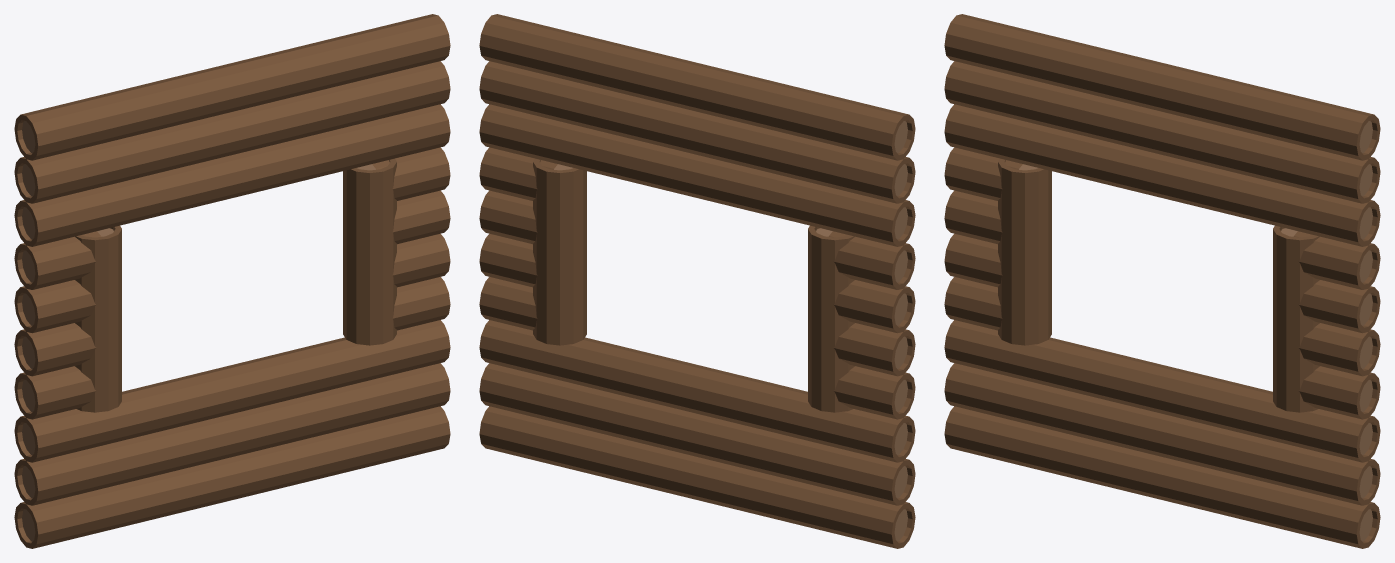
Rendered from mesh_wood_wall_window_big.fbx.
3 renders of one model, left to right at view 1: azimuth 30°, elevation 25°; view 2: azimuth 150°, elevation 25°; view 3: azimuth 330°, elevation 25°, orthographic.
Parts seen in each view (by area): view 1: mesh_wood_wall_window_big; view 2: mesh_wood_wall_window_big; view 3: mesh_wood_wall_window_big.
Part boxes in pixels (x1=…): mesh_wood_wall_window_big: x1=14, y1=14, x2=450, y2=548; mesh_wood_wall_window_big: x1=479, y1=14, x2=915, y2=548; mesh_wood_wall_window_big: x1=944, y1=14, x2=1380, y2=548.
Size of the model in its own units: 2 by 2 by 0.2272.
